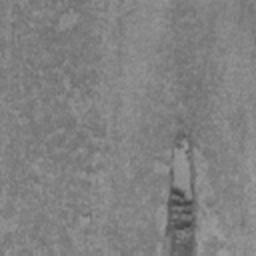Oxide scale of plate system: (163, 128, 200, 256), (168, 168, 177, 180)
